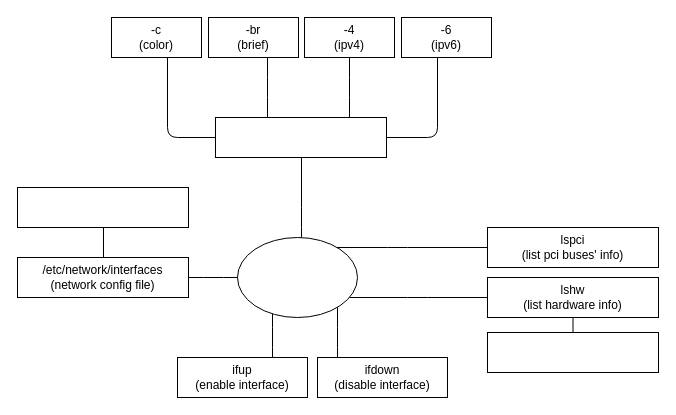
This 676x415 diagram has some shape labels left out. The shapes that lost their labels are listed below. From the top down, each one's centre as x and y in pixels, then its label:
At [300,137]: "ip addr (shows network interfaces info)".
At [102,207]: "iface ens33 inet dhcp (set ens33 in dhcp mode)".
At [297,277]: "ip / networking".
At [572,352]: "lshw -class network (list network hardware info)".
